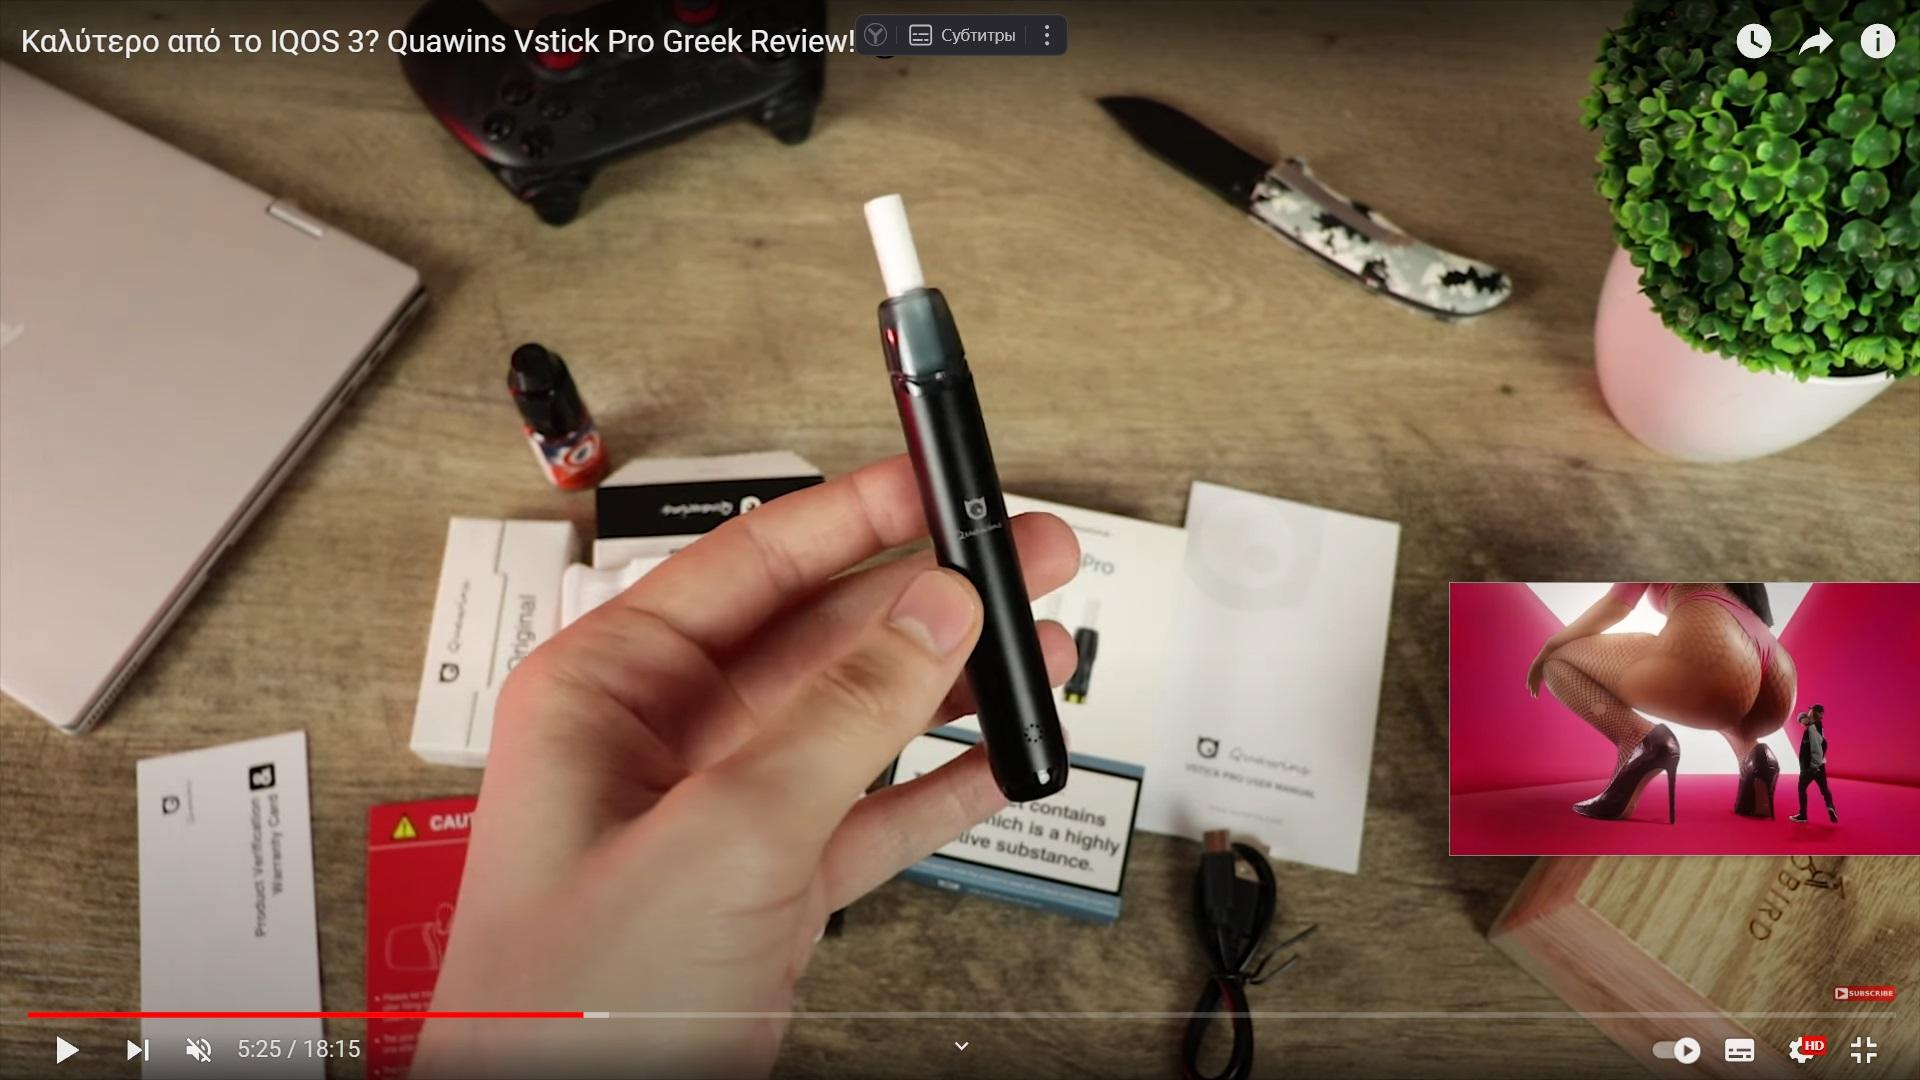iqos: (866, 195, 1069, 800)
